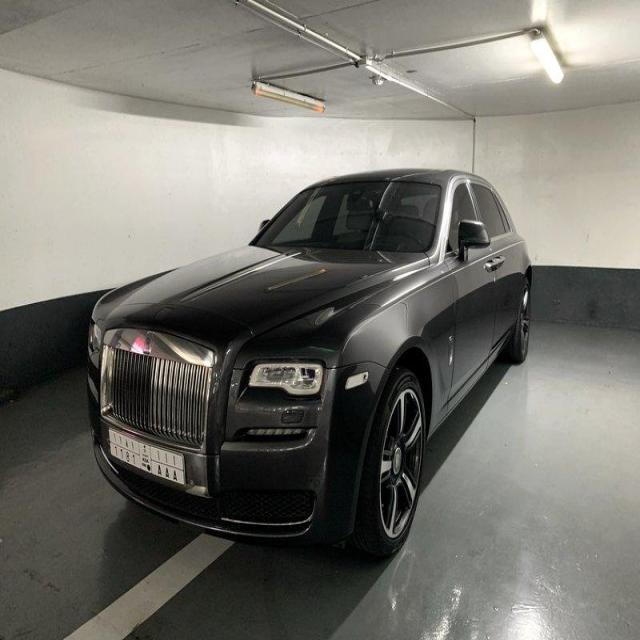license_plate: (98, 418, 192, 493)
